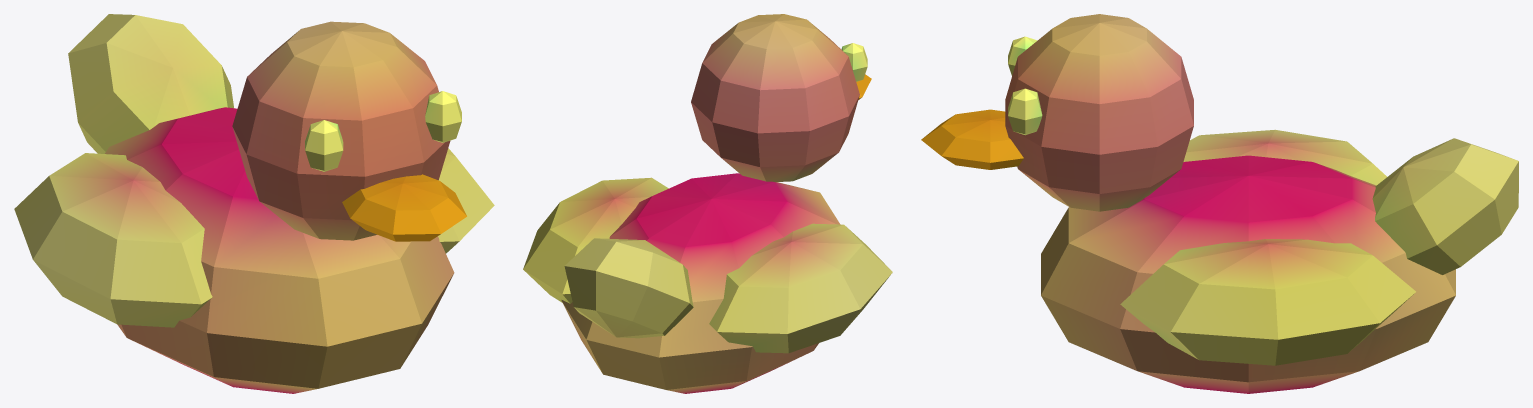
Rendered from Duck_01.fbx.
3 renders of one model, left to right at view 1: azimuth 30°, elevation 25°; view 2: azimuth 150°, elevation 25°; view 3: azimuth 270°, elevation 25°, orthographic. The views are drawn at different scales.
Parts seen in each view (by area): view 1: Duck_01; view 2: Duck_01; view 3: Duck_01.
Part boxes in pixels (x1,y1,x2,y2): Duck_01: [14, 14, 494, 393]; Duck_01: [523, 14, 892, 393]; Duck_01: [921, 14, 1518, 393].
Size of the model in its own units: 0.5488 by 0.4875 by 0.7532.
